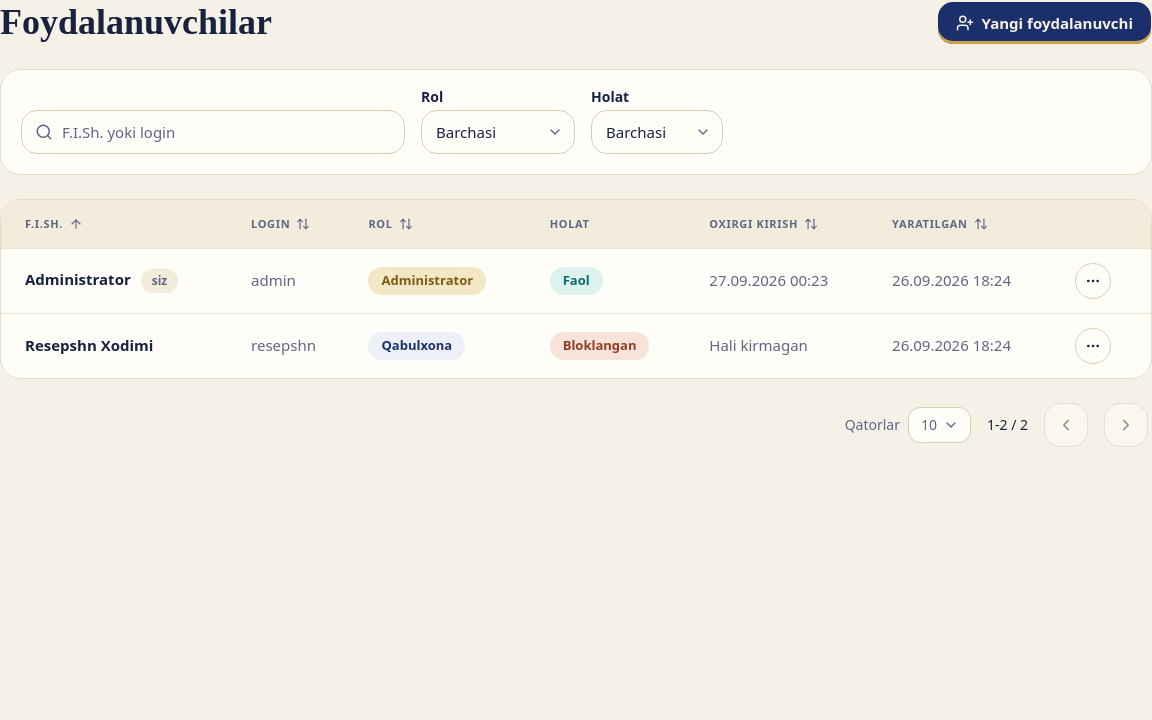
Test case: UsersPage › should show a non-field backend error inside the dialog when saving fails
expect the text "Resepshn Xodimi" is shown: met, box [25,335,153,355]
Click the button named "Amallar: Resepshn Xodimi". click: (1093, 346)
box: [1075,328,1111,364]
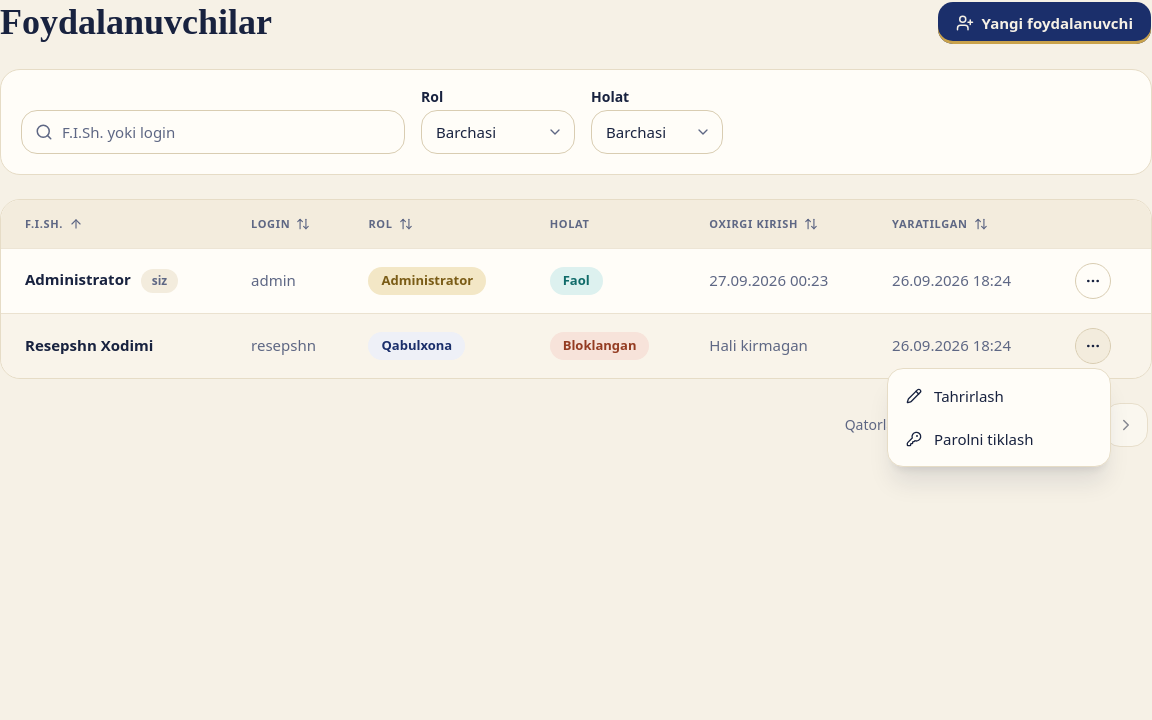
Click the menu item "Tahrirlash". click: (955, 396)
box: [906,386,1004,406]
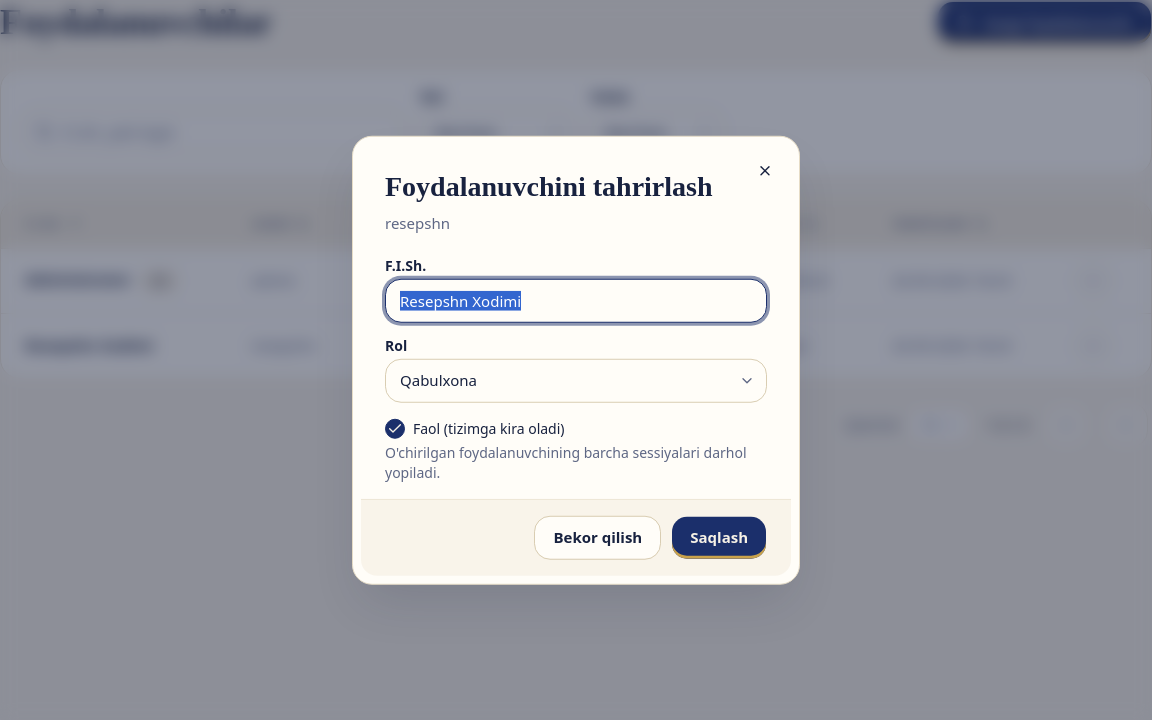
Click the button "Saqlash". click: (719, 537)
box: [671,515,767,559]
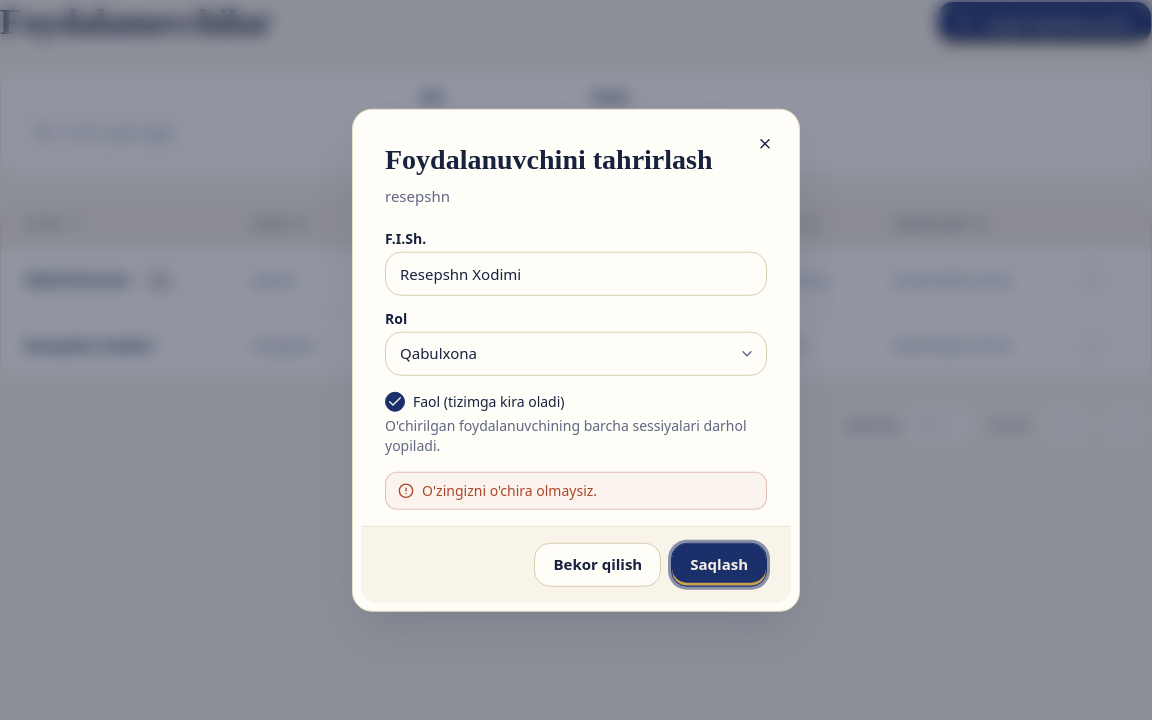
expect the message reads "O'zingizni o'chira olmaysiz.": met, box [422,480,597,499]
